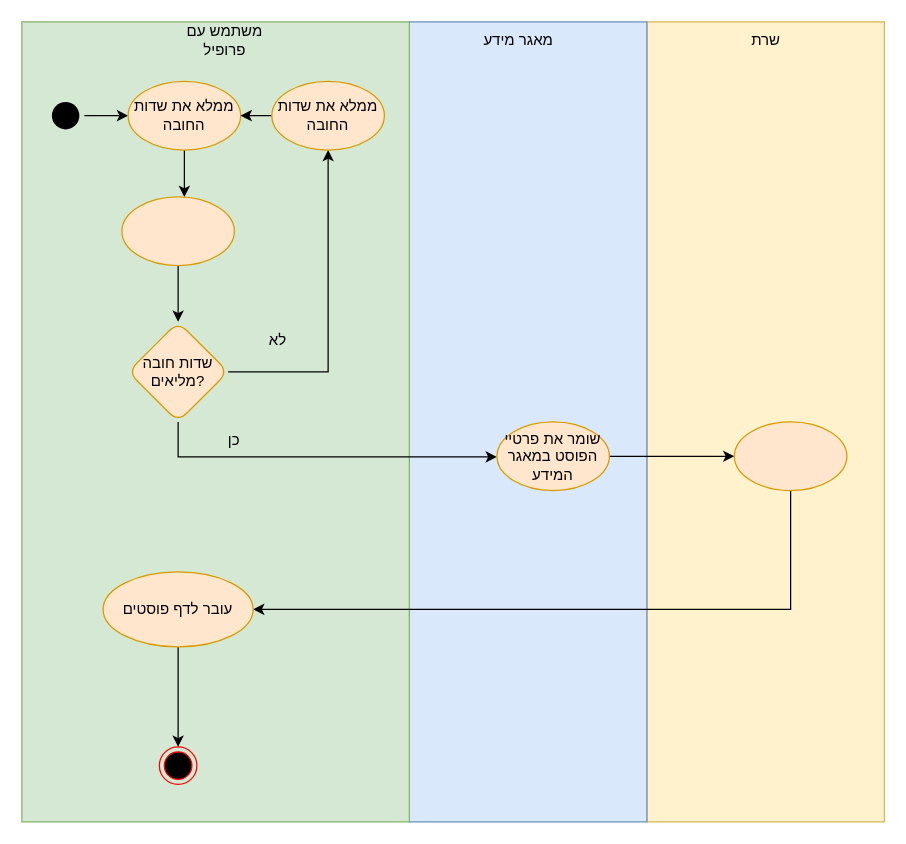
The diagram is 906 pixels wide and 844 high, and some of its shapes have lost their labels. Here are the shapes that lost their labels. From the top down, the box of each, then its label:
(121, 196, 234, 266): לוחץ על כפתור פרסם פוסט
(733, 421, 847, 491): יוצר תקיית פוסט
